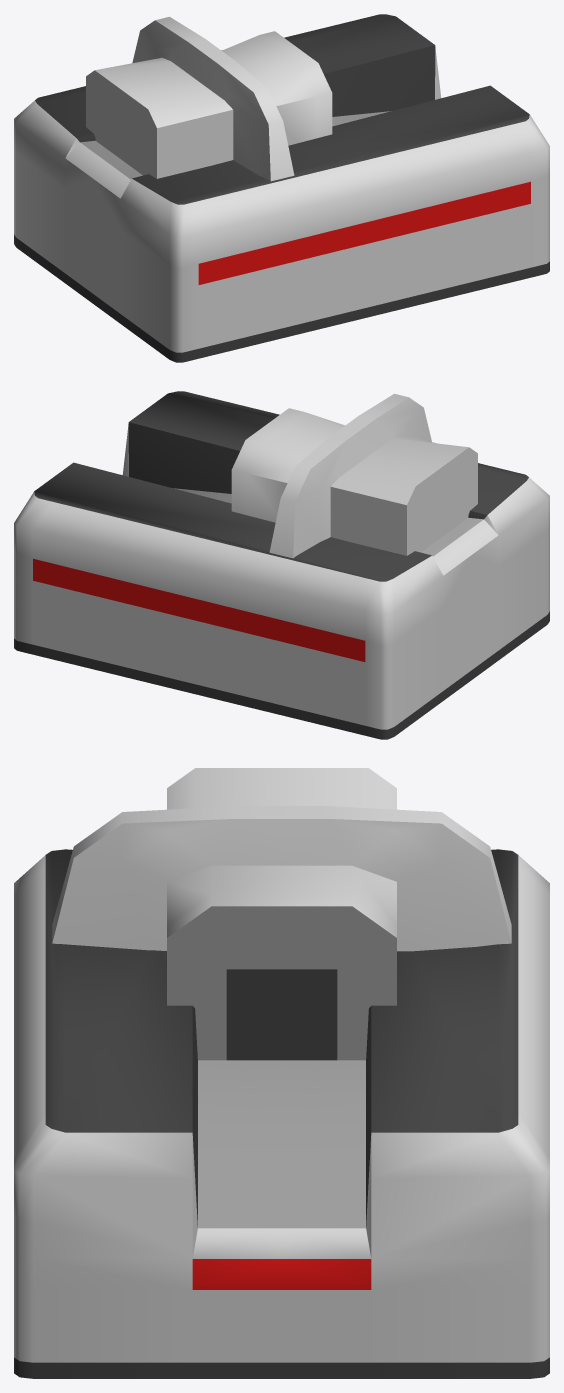
Rendered from Machine.fbx.
The picture shows the model from 3 angles, top to bottom: view 1: azimuth 30°, elevation 25°; view 2: azimuth 150°, elevation 25°; view 3: azimuth 270°, elevation 25°; orthographic projection. The views are drawn at different scales.
Visible parts, largest first — view 1: MachineToolAutomatic.002; view 2: MachineToolAutomatic.002; view 3: MachineToolAutomatic.002.
Boxes of the visible parts, x1,y1,x2,y2 form: MachineToolAutomatic.002: (14,14,549,362); MachineToolAutomatic.002: (14,391,549,739); MachineToolAutomatic.002: (14,768,549,1378).
Bounding box in the file's own units: 1780 × 1006 × 1351.
